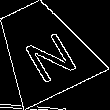N_NW: (11, 18, 76, 81)
